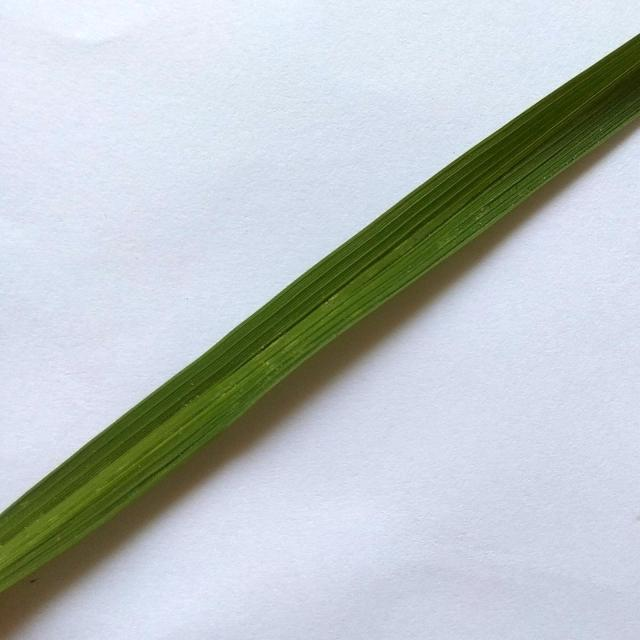healthy: (2, 33, 640, 596)
